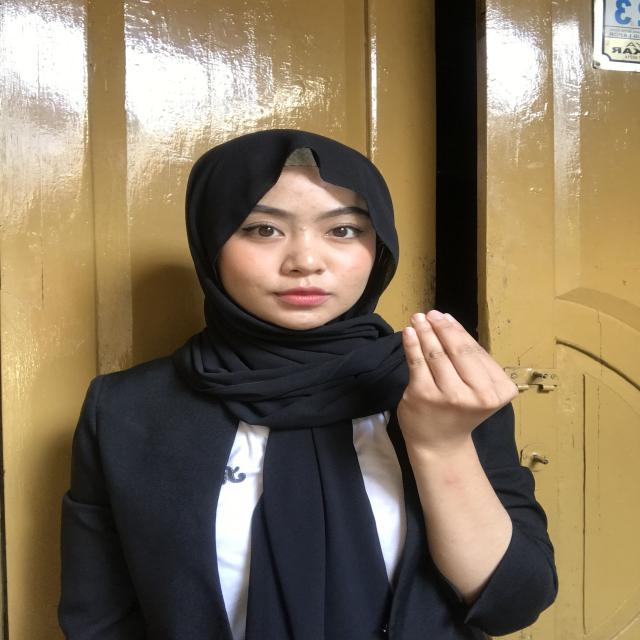kapan: (362, 300, 544, 496)
